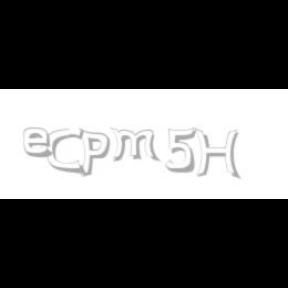5: (166, 128, 196, 174)
C: (46, 128, 84, 174)
H: (194, 128, 240, 180)
P: (78, 128, 110, 178)
e: (24, 128, 56, 158)
m: (109, 128, 161, 162)
